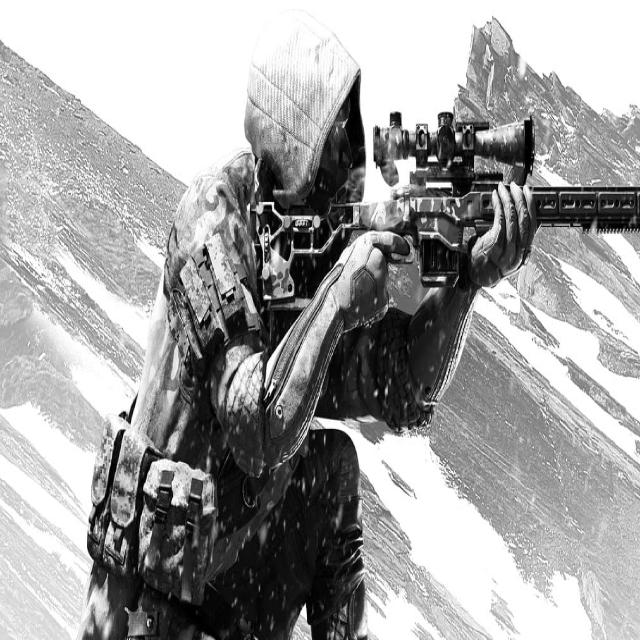Sniper: (272, 104, 640, 373)
